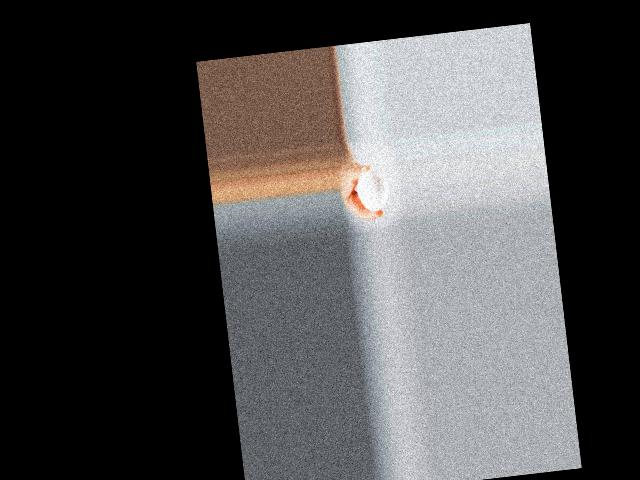egg: (355, 169, 390, 213)
